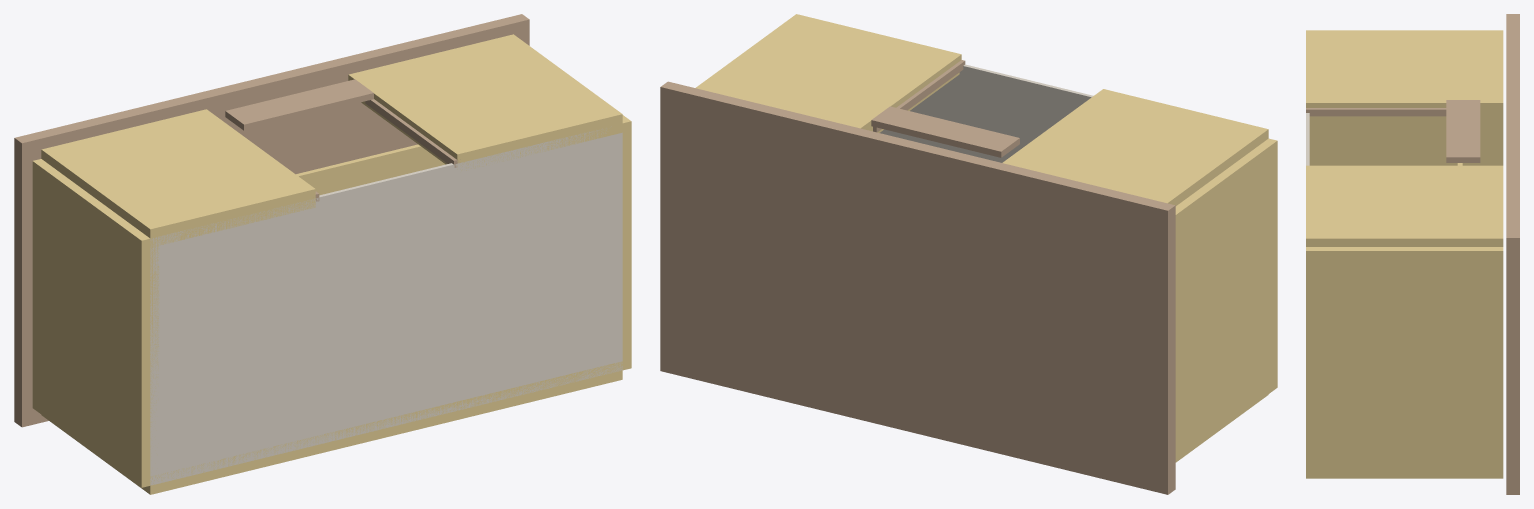
Rendered from building_fruit.glb.
The picture shows the model from 3 angles, left to right: view 1: azimuth 30°, elevation 25°; view 2: azimuth 150°, elevation 25°; view 3: azimuth 270°, elevation 25°; orthographic projection. The views are drawn at different scales.
Parts seen in each view (by area): view 1: building_fruit_floor, building_fruit_w, building_fruit_roof, building_fruit_s_l, building_fruit_s_r, building_fruit_n, building_fruit_canopy, building_fruit_sign, building_fruit_e, building_fruit_jamb_r; view 2: building_fruit_roof, building_fruit_w, building_fruit_s_l, building_fruit_s_r, building_fruit_floor, building_fruit_sign, building_fruit_jamb_r; view 3: building_fruit_e, building_fruit_s_r, building_fruit_s_l, building_fruit_w, building_fruit_roof, building_fruit_sign, building_fruit_jamb_l, building_fruit_n.
Part boxes in pixels (box(x1,y1,x2,y2)): building_fruit_floor: box(150, 126, 622, 485); building_fruit_w: box(32, 159, 159, 487); building_fruit_roof: box(14, 14, 529, 427); building_fruit_s_l: box(41, 109, 315, 247); building_fruit_s_r: box(348, 34, 622, 170); building_fruit_n: box(41, 361, 622, 494); building_fruit_canopy: box(296, 144, 445, 195); building_fruit_sign: box(225, 79, 373, 130); building_fruit_e: box(622, 115, 631, 370); building_fruit_jamb_r: box(365, 99, 460, 167); building_fruit_roof: box(660, 81, 1175, 494); building_fruit_w: box(1175, 138, 1277, 461); building_fruit_s_l: box(1002, 89, 1268, 205); building_fruit_s_r: box(695, 14, 961, 132); building_fruit_floor: box(880, 64, 1093, 162); building_fruit_sign: box(871, 106, 1019, 157); building_fruit_jamb_r: box(873, 60, 965, 132); building_fruit_e: box(1306, 247, 1503, 474); building_fruit_s_r: box(1306, 165, 1503, 246); building_fruit_s_l: box(1306, 30, 1503, 119); building_fruit_w: box(1309, 120, 1503, 165); building_fruit_roof: box(1506, 14, 1519, 494); building_fruit_sign: box(1446, 100, 1480, 162); building_fruit_jamb_l: box(1306, 108, 1446, 116); building_fruit_n: box(1306, 474, 1503, 478).
Bounding box in the file's own units: 8.6 × 4.6 × 3.47.
